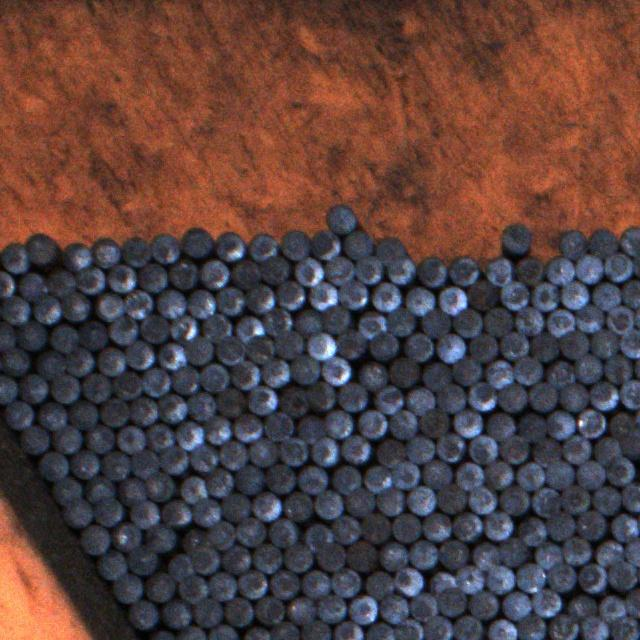tool: (293, 508, 343, 552), (416, 353, 457, 398), (602, 398, 640, 438), (92, 547, 128, 580), (276, 384, 310, 416), (421, 457, 454, 489), (371, 383, 404, 415), (500, 222, 533, 254), (83, 474, 117, 505), (345, 539, 377, 571), (155, 287, 187, 319), (278, 229, 310, 261), (387, 356, 419, 388), (482, 306, 514, 338), (160, 596, 191, 629), (213, 230, 246, 261), (69, 448, 99, 482), (342, 228, 376, 258), (482, 411, 516, 441), (126, 599, 158, 630), (145, 570, 176, 602), (77, 524, 109, 555), (61, 497, 92, 529), (51, 475, 83, 506), (295, 463, 327, 494), (35, 400, 66, 432), (96, 396, 128, 427), (336, 381, 368, 412), (305, 330, 337, 361), (356, 308, 387, 340), (120, 236, 152, 267), (310, 229, 341, 261), (499, 589, 531, 620), (404, 384, 435, 416), (602, 353, 634, 384), (467, 279, 498, 311), (281, 490, 314, 520), (217, 440, 250, 470), (403, 285, 436, 315), (294, 413, 328, 442), (331, 567, 362, 598), (175, 419, 206, 450), (66, 398, 97, 429), (336, 328, 367, 359), (451, 511, 482, 542), (609, 511, 640, 542), (498, 484, 529, 515), (223, 596, 253, 628), (110, 574, 142, 604), (300, 569, 332, 599), (126, 544, 158, 574), (361, 512, 391, 544), (92, 497, 124, 527), (343, 488, 375, 518), (33, 348, 65, 378), (46, 323, 78, 353), (77, 320, 109, 350), (294, 256, 326, 286), (385, 255, 417, 285), (58, 240, 90, 270), (182, 225, 212, 257), (325, 203, 357, 233), (484, 565, 516, 595), (378, 540, 408, 572), (438, 538, 470, 568), (576, 509, 608, 539), (434, 484, 466, 514), (528, 487, 560, 517), (516, 410, 546, 442), (436, 382, 466, 414), (355, 360, 387, 390), (544, 309, 576, 339), (408, 538, 437, 571), (417, 408, 450, 437), (176, 574, 207, 604), (238, 568, 268, 599), (221, 545, 252, 575), (205, 520, 236, 550), (234, 465, 265, 495), (19, 424, 50, 454), (233, 412, 264, 442), (263, 411, 294, 441), (323, 408, 353, 439), (50, 372, 80, 403), (80, 372, 111, 402), (111, 370, 141, 401), (141, 367, 172, 397), (0, 346, 31, 376), (109, 314, 139, 345), (30, 294, 61, 324), (274, 280, 305, 310), (339, 279, 369, 310), (372, 281, 402, 312), (561, 535, 591, 566), (422, 510, 452, 541), (591, 485, 621, 516), (405, 433, 435, 464), (562, 434, 592, 465), (466, 381, 496, 412), (497, 382, 528, 412), (559, 381, 590, 411), (435, 332, 466, 362), (466, 332, 497, 362), (589, 327, 620, 357), (452, 307, 482, 338), (513, 306, 544, 336), (499, 280, 530, 310), (574, 253, 604, 284), (109, 521, 141, 550), (250, 491, 282, 520), (94, 290, 123, 322), (188, 286, 217, 318), (15, 272, 47, 301), (44, 267, 76, 296), (229, 258, 261, 287), (376, 235, 408, 264), (144, 522, 177, 550), (329, 466, 362, 494), (564, 593, 597, 621), (286, 594, 316, 624), (347, 593, 377, 623), (252, 542, 282, 572), (315, 541, 345, 571), (38, 450, 68, 480), (99, 451, 129, 481), (310, 436, 340, 466), (306, 381, 336, 411), (357, 410, 387, 440), (230, 360, 260, 390), (321, 356, 351, 386), (65, 346, 95, 376), (215, 334, 245, 364), (275, 330, 305, 360), (139, 313, 169, 343), (76, 264, 106, 294), (199, 258, 229, 288), (25, 233, 55, 263), (151, 232, 181, 262), (454, 564, 484, 594), (576, 562, 606, 592), (469, 539, 499, 569), (392, 513, 422, 543), (482, 510, 512, 540), (374, 438, 404, 468), (467, 434, 497, 464), (531, 436, 561, 466), (452, 407, 482, 437), (576, 406, 606, 436), (528, 382, 558, 412), (588, 380, 618, 410), (513, 355, 543, 385), (558, 228, 588, 258), (267, 518, 298, 547), (265, 463, 296, 492), (188, 442, 217, 473), (216, 387, 247, 416), (198, 363, 229, 392), (260, 358, 291, 387), (125, 340, 156, 369), (61, 291, 90, 322), (123, 290, 154, 319), (216, 286, 245, 317), (91, 237, 120, 268), (393, 566, 422, 597), (516, 563, 545, 594), (405, 484, 434, 515), (468, 483, 497, 514), (451, 356, 482, 385), (528, 332, 559, 361), (385, 307, 416, 336), (268, 570, 300, 598), (314, 488, 342, 520), (129, 394, 157, 426), (201, 314, 233, 342), (232, 314, 264, 342), (136, 264, 168, 292), (515, 516, 547, 544), (155, 343, 188, 370), (192, 596, 221, 626), (207, 571, 237, 600), (365, 570, 395, 599), (283, 542, 312, 572), (236, 517, 266, 546), (330, 515, 360, 544), (177, 475, 207, 504), (204, 468, 233, 498), (158, 445, 188, 474), (278, 437, 308, 466), (3, 400, 32, 430), (248, 385, 277, 415), (18, 373, 47, 403), (355, 255, 385, 284), (0, 242, 29, 272), (248, 232, 277, 262), (378, 594, 407, 624), (436, 587, 466, 616), (467, 589, 497, 618), (499, 536, 528, 566), (546, 511, 575, 541), (392, 460, 421, 490), (484, 459, 513, 489), (605, 456, 634, 486), (436, 432, 465, 462), (547, 408, 576, 438), (368, 331, 398, 360), (422, 308, 451, 338), (530, 282, 559, 312), (560, 280, 589, 310), (417, 256, 446, 286), (448, 255, 477, 285), (587, 228, 617, 257), (253, 596, 284, 624), (128, 499, 159, 527), (222, 492, 250, 523), (146, 471, 174, 502), (250, 436, 278, 467), (342, 434, 370, 465), (307, 282, 338, 310), (545, 564, 576, 592), (532, 540, 563, 568), (559, 486, 590, 514), (544, 461, 575, 489), (574, 353, 602, 384), (437, 286, 468, 314), (50, 425, 82, 452), (316, 593, 345, 622), (191, 545, 220, 574), (84, 424, 113, 453), (186, 391, 215, 420), (96, 346, 125, 375), (17, 320, 46, 349), (292, 308, 321, 337), (322, 305, 351, 334), (514, 461, 543, 490), (591, 281, 620, 310), (192, 497, 222, 525), (130, 449, 158, 479), (292, 354, 320, 384), (246, 333, 274, 363), (169, 314, 199, 342), (262, 307, 292, 335), (245, 284, 275, 312), (106, 264, 136, 292), (168, 260, 198, 288), (375, 487, 405, 515), (361, 464, 391, 492), (388, 409, 416, 439), (402, 332, 432, 360), (498, 332, 528, 360), (559, 330, 589, 358), (160, 499, 191, 526), (118, 476, 145, 507), (497, 435, 528, 462), (604, 251, 631, 282), (115, 425, 144, 453), (157, 393, 185, 422), (185, 335, 213, 364), (1, 296, 30, 324), (408, 592, 437, 620), (532, 588, 561, 616), (577, 459, 605, 488), (575, 304, 604, 332), (606, 304, 635, 332), (485, 256, 513, 285), (545, 255, 574, 283), (261, 255, 291, 282), (548, 613, 578, 640), (592, 435, 622, 462), (609, 614, 640, 640), (598, 592, 626, 620), (608, 562, 636, 590), (514, 256, 542, 284), (145, 423, 174, 450), (426, 570, 455, 597), (594, 538, 623, 565), (483, 359, 512, 386), (172, 364, 198, 394), (326, 257, 354, 284), (454, 462, 483, 488), (452, 615, 482, 640), (579, 615, 609, 640), (166, 553, 193, 580), (205, 416, 231, 444), (516, 616, 546, 640), (424, 614, 451, 640), (486, 616, 515, 640), (300, 619, 332, 640), (331, 619, 363, 640), (619, 224, 640, 256), (363, 620, 396, 640), (547, 361, 573, 386), (619, 380, 640, 410), (395, 618, 423, 640), (619, 429, 640, 458), (179, 531, 205, 554), (620, 328, 640, 357), (620, 278, 640, 307), (272, 620, 300, 640), (622, 481, 640, 511), (0, 372, 16, 403), (207, 624, 237, 640), (242, 624, 272, 640), (0, 322, 15, 351), (178, 625, 206, 640), (625, 587, 640, 615), (625, 537, 640, 565), (0, 269, 14, 298)
